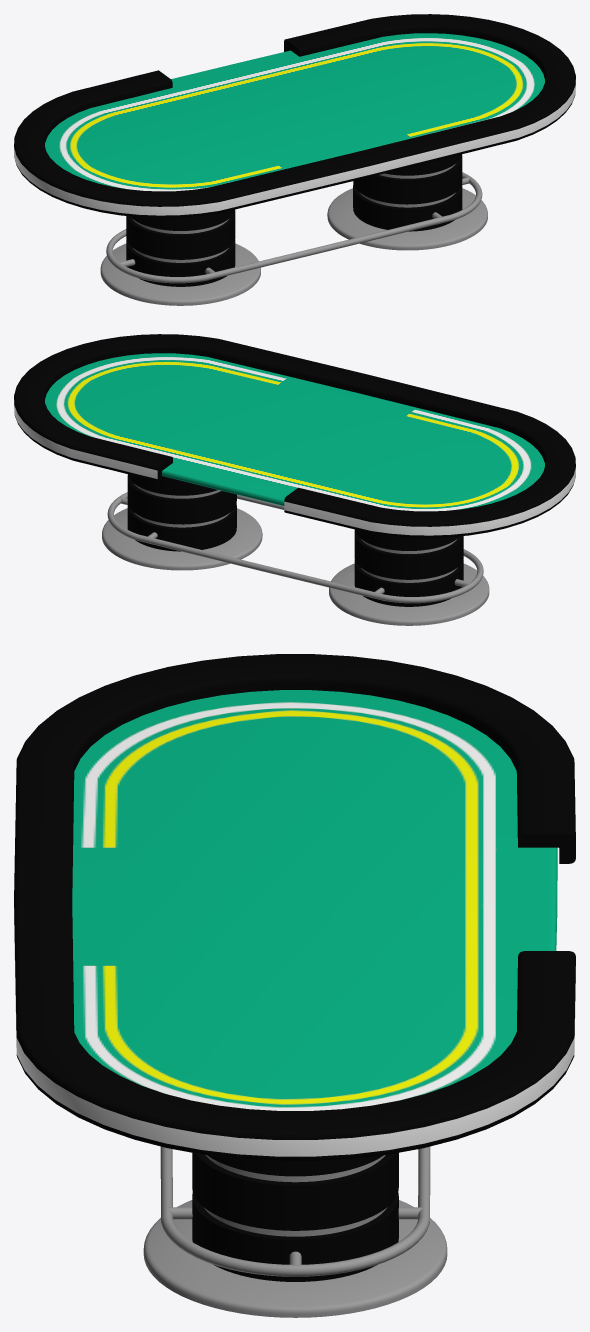
File: poker_table_tx.FBX
3 renders of one model, top to bottom at view 1: azimuth 30°, elevation 25°; view 2: azimuth 150°, elevation 25°; view 3: azimuth 270°, elevation 25°, orthographic. The views are drawn at different scales.
Parts seen in each view (by area): view 1: Cylinder001; view 2: Cylinder001; view 3: Cylinder001.
Part boxes in pixels (x1,y1,x2,y2): Cylinder001: (14, 14, 575, 305); Cylinder001: (14, 334, 575, 625); Cylinder001: (14, 654, 575, 1317).
Bounding box in the file's own units: 2293 × 571 × 1131.
5 materials, 1 textured.
